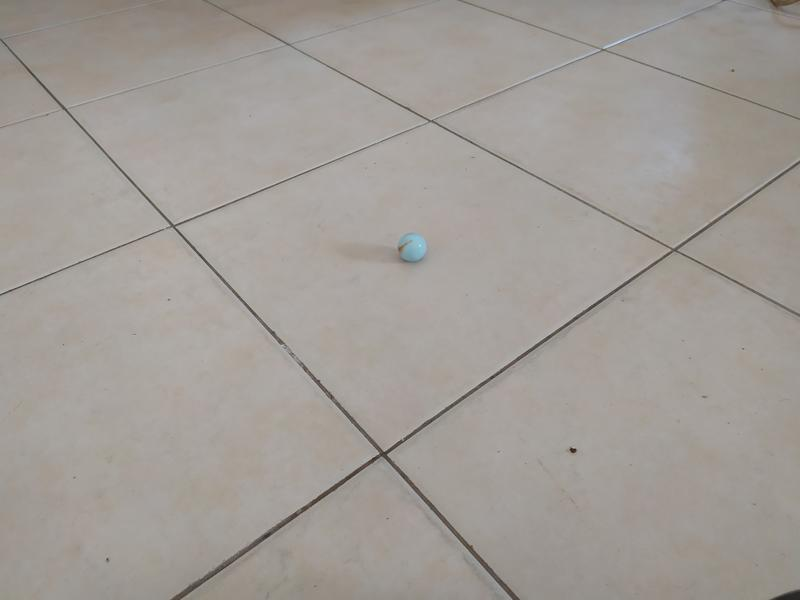Warning: (395, 231, 430, 264)
